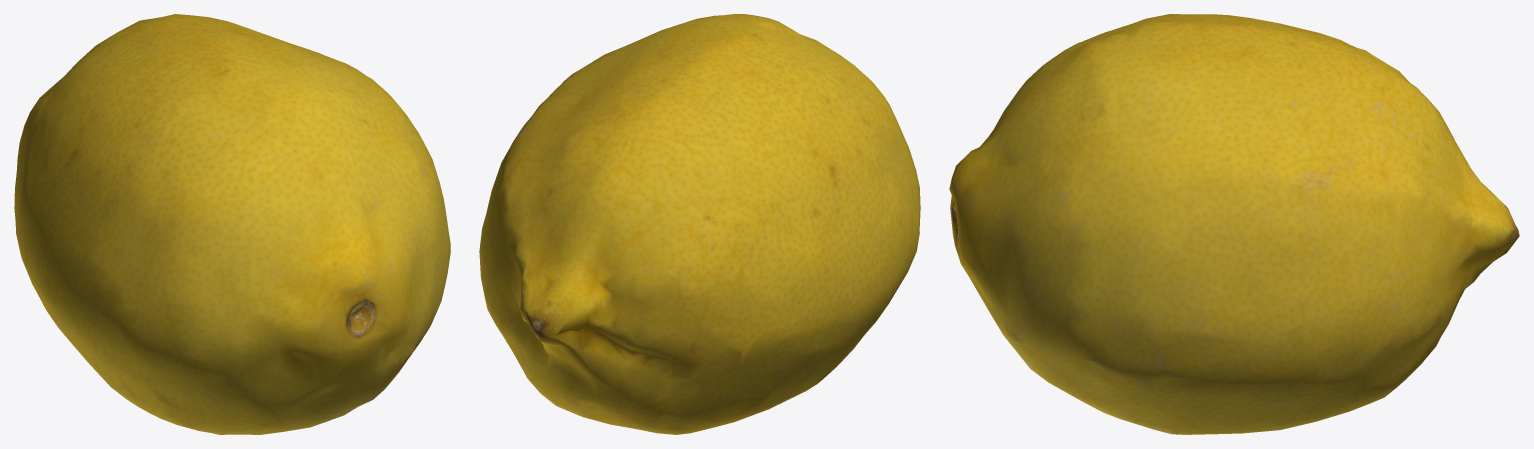
File: lemon.gltf
The picture shows the model from 3 angles, left to right: view 1: azimuth 30°, elevation 25°; view 2: azimuth 150°, elevation 25°; view 3: azimuth 270°, elevation 25°; orthographic projection. The views are drawn at different scales.
Parts seen in each view (by area): view 1: mmGroup0; view 2: mmGroup0; view 3: mmGroup0.
Part boxes in pixels (x1,y1,x2,y2): mmGroup0: [14, 14, 450, 434]; mmGroup0: [479, 14, 920, 434]; mmGroup0: [949, 14, 1519, 434].
Size of the model in its own units: 0.0218 by 0.0215 by 0.0297.
1 material, 1 textured.
